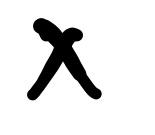mult: (27, 19, 100, 98)
